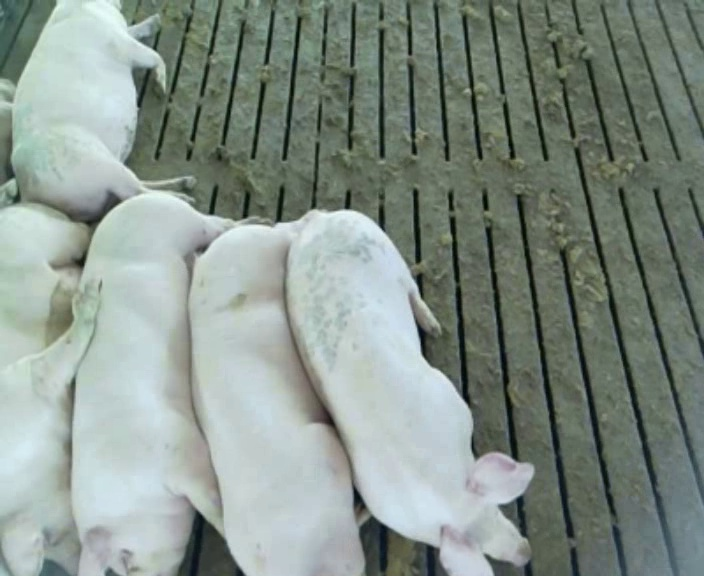pig: (288, 212, 532, 574), (72, 192, 274, 574), (189, 208, 368, 574), (11, 3, 196, 221)
